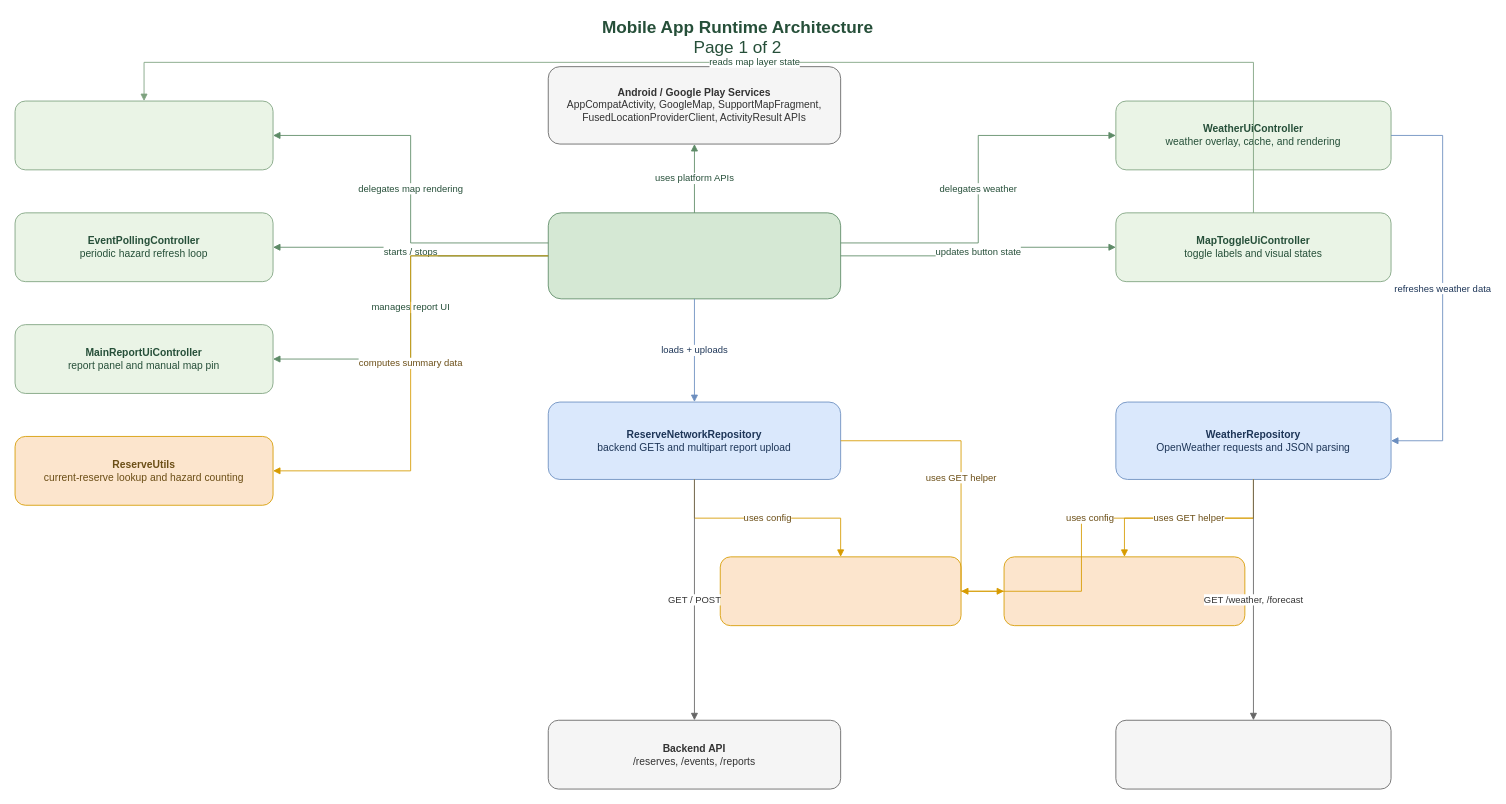
Image size: 1506x804. Some labels were removed from this diagram. Each missing label, with the centre of its shape:
ApiConfig BuildConfig-backed URLs and API keys: the point at 840,591
HttpUtils shared GET/response helpers: the point at 1124,591
MainActivity screen coordinator and state owner: the point at 694,255
MapController draws reserves, hazards, and map style: the point at 143,135
OpenWeather API /weather and /forecast: the point at 1253,754
